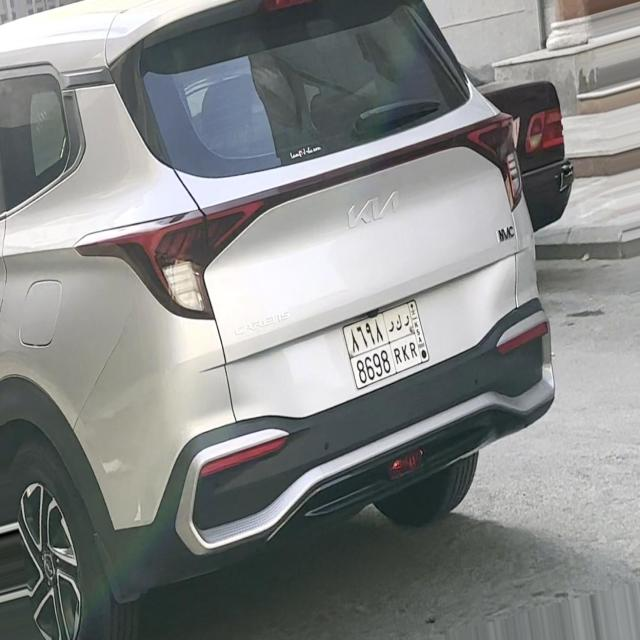Car-plate: (328, 282, 449, 403)
